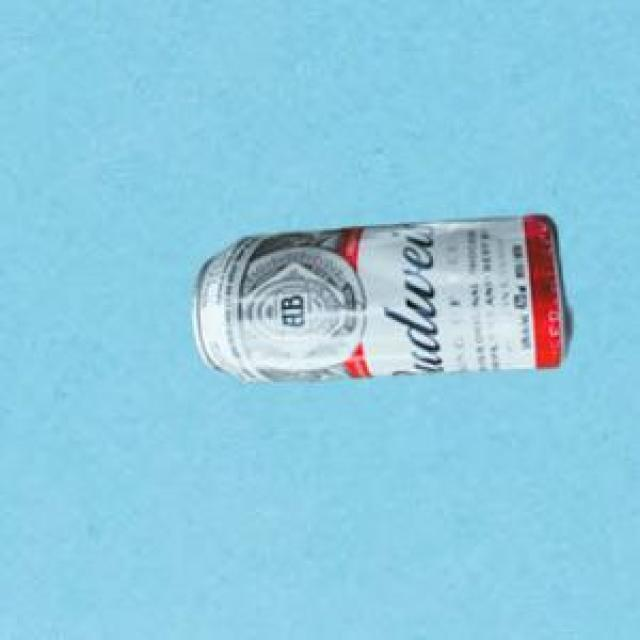Can: (191, 212, 569, 379)
